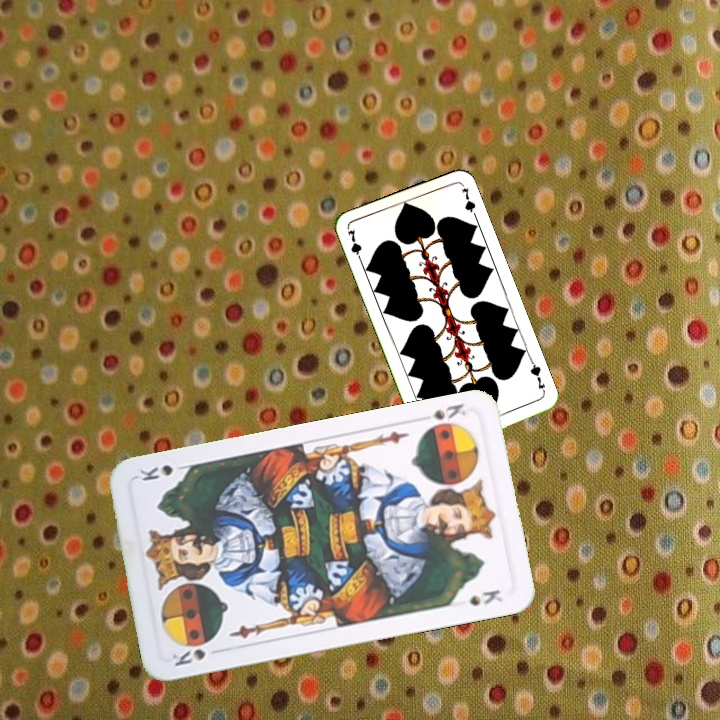G7: (526, 357, 548, 396), (344, 225, 365, 265)
SK: (428, 399, 469, 423), (168, 645, 208, 669)
